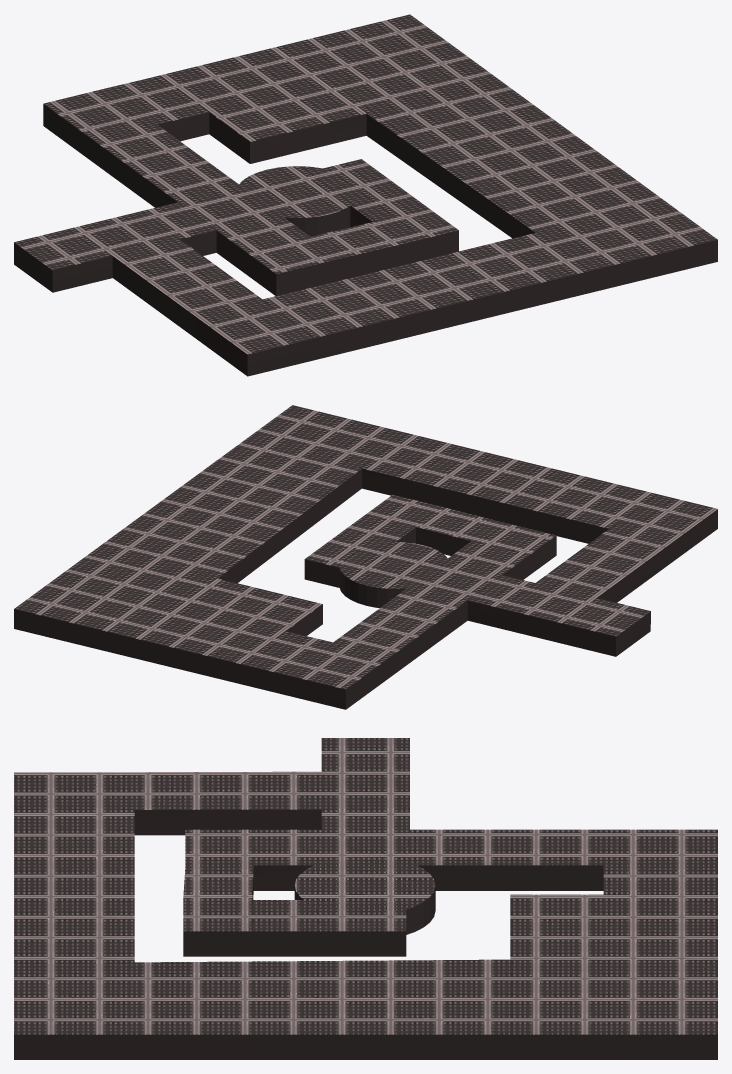
The model's file is Room4_FirstFloor.glb.
3 views of the same model, one above another, from view 1: azimuth 30°, elevation 25°; view 2: azimuth 150°, elevation 25°; view 3: azimuth 270°, elevation 25° (orthographic). The views are drawn at different scales.
Parts seen in each view (by area): view 1: Cube.005; view 2: Cube.005; view 3: Cube.005.
Part boxes in pixels (x1,y1,x2,y2): Cube.005: [14, 14, 717, 376]; Cube.005: [14, 405, 717, 709]; Cube.005: [14, 738, 717, 1059].
Size of the model in its own units: 49.77 by 2 by 50.
Materials: 1 (1 with a texture image).
